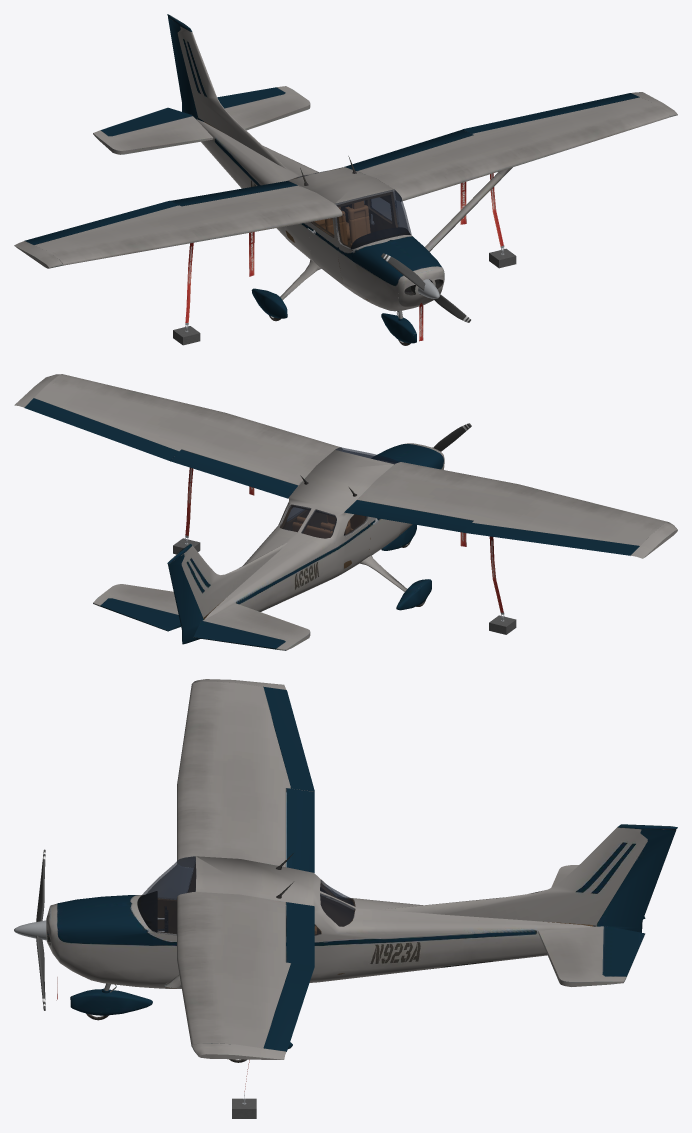
3 views of the same model, one above another, from view 1: azimuth 30°, elevation 25°; view 2: azimuth 150°, elevation 25°; view 3: azimuth 270°, elevation 25° (orthographic). The views are drawn at different scales.
Parts seen in each view (by area): view 1: Object_4, Object_37, Plane.014_53, Object_72, Object_62, Object_116, Object_39, Plane.013_14, Object_56, Object_50; view 2: Object_4, Object_37, Plane.014_53, Object_72, Object_62, Object_116, Object_56; view 3: Object_4, Object_37, Object_56, Object_39.
Boxes of the visible parts, <box> form: Object_4: <box>14,14,677,343</box>; Object_37: <box>291,171,411,249</box>; Plane.014_53: <box>307,218,343,283</box>; Object_72: <box>185,173,503,341</box>; Object_62: <box>315,201,370,246</box>; Object_116: <box>173,248,516,345</box>; Object_39: <box>381,253,470,322</box>; Plane.013_14: <box>366,197,393,232</box>; Object_56: <box>204,121,397,300</box>; Object_50: <box>351,227,410,250</box>; Object_4: <box>14,374,677,650</box>; Object_37: <box>280,447,399,538</box>; Plane.014_53: <box>369,517,400,555</box>; Object_72: <box>185,467,503,612</box>; Object_62: <box>292,514,364,538</box>; Object_116: <box>173,538,516,634</box>; Object_56: <box>203,505,366,619</box>; Object_4: <box>46,679,677,1059</box>; Object_37: <box>137,856,355,936</box>; Object_56: <box>158,863,592,988</box>; Object_39: <box>36,849,45,1010</box>.
Size of the model in its own units: 3.69 by 0.8959 by 2.76.
27 materials, 12 textured.
